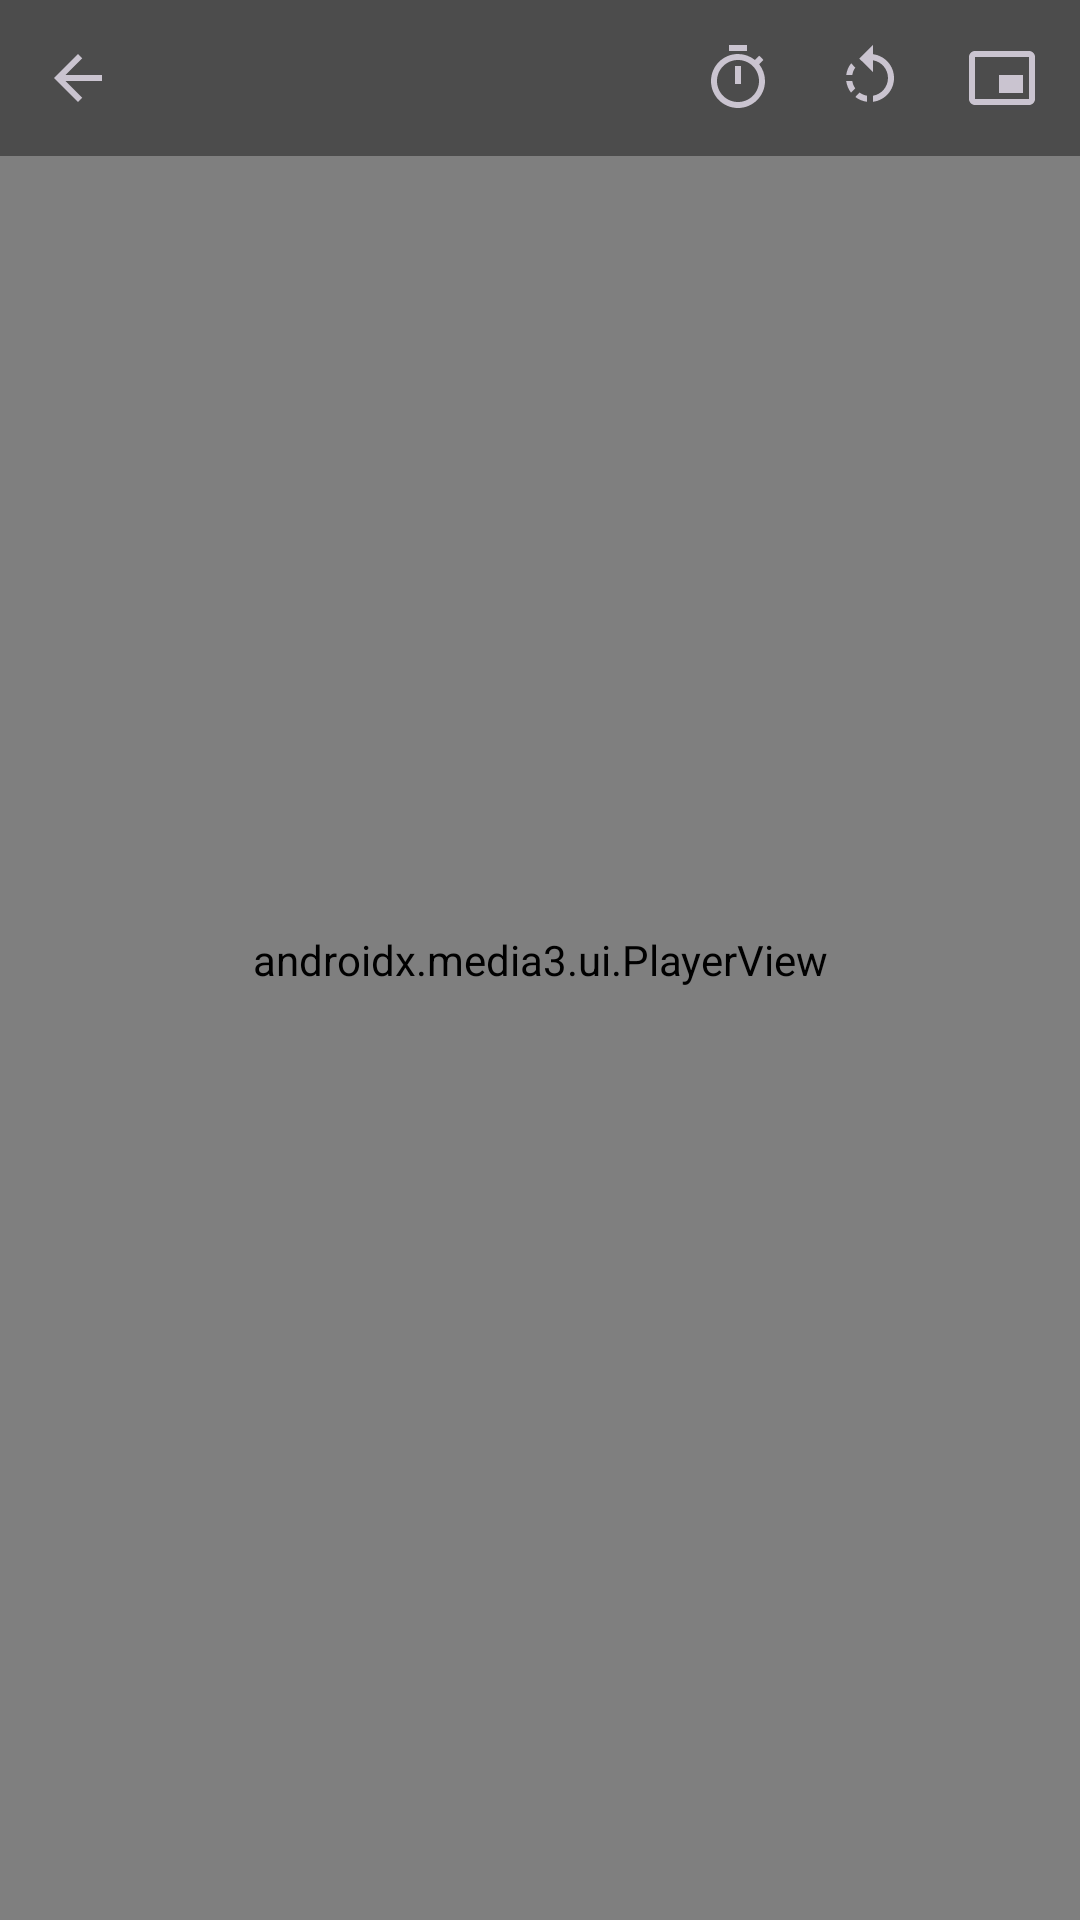

Where to tap for icons on this 1080px x 1920px app screen, as (x=x, y=y):
Back: (x=78, y=78)
Picture in picture: (x=1002, y=78)
Rotate: (x=870, y=73)
Sleep timer: (x=738, y=76)
